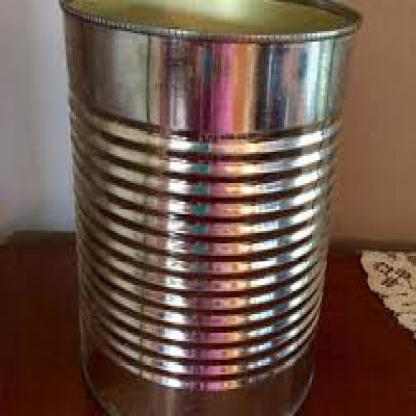METAL: (60, 0, 362, 414)
